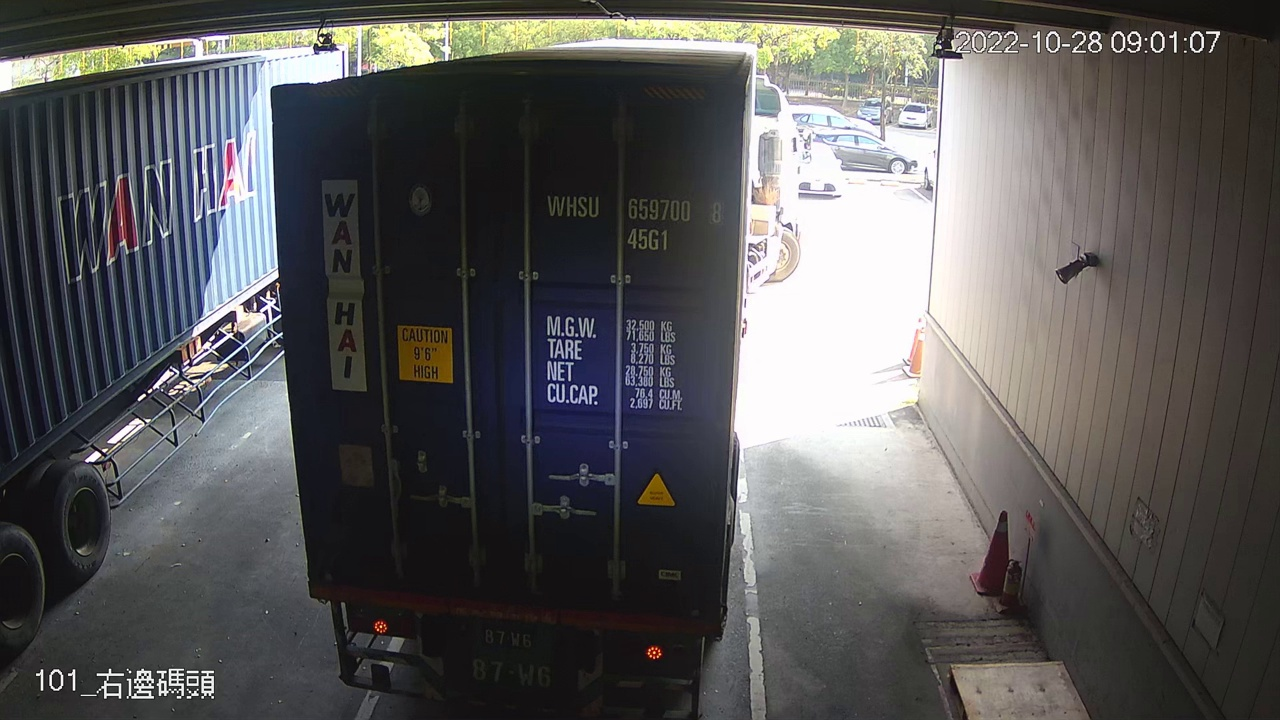container: (543, 186, 730, 254)
